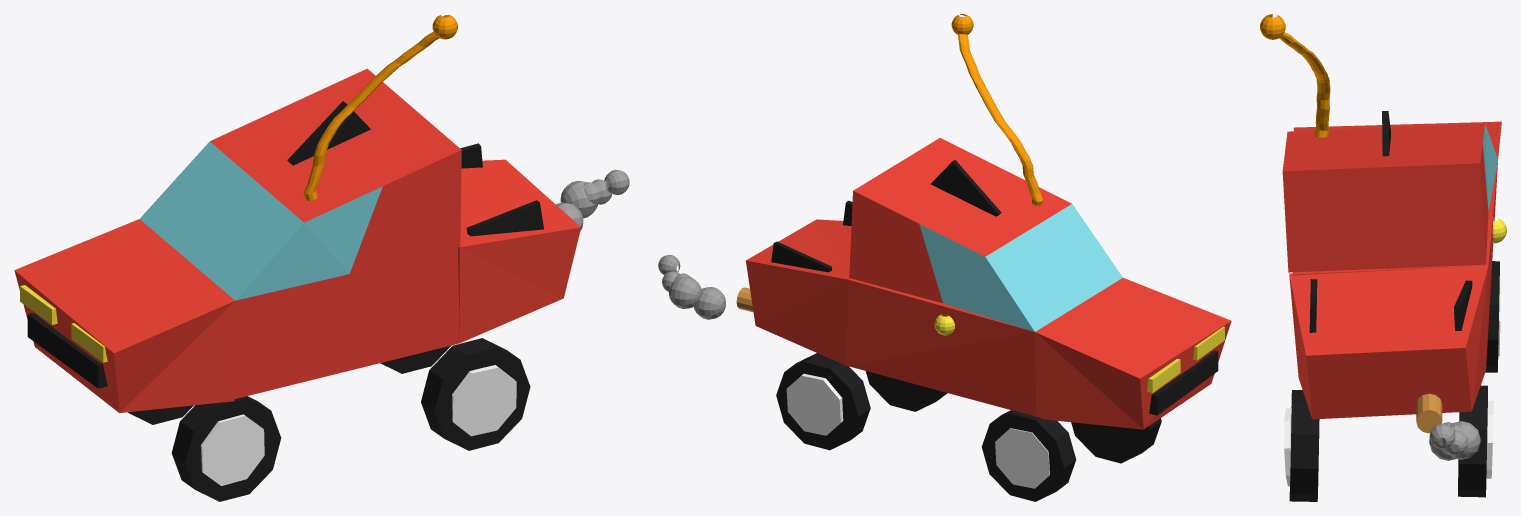
Rendered from robot2.glb.
3 views of the same model, side by side, from view 1: azimuth 30°, elevation 25°; view 2: azimuth 150°, elevation 25°; view 3: azimuth 270°, elevation 25° (orthographic). The views are drawn at different scales.
Visible parts, largest first — view 1: group1816747608, group223673627, group1737520711, group1923273632, group1309054072, group1839723920, group696540419, group1850184820, group820149238, group1028843289, group1958005578, group922025665 (+4 smaller); view 2: group1816747608, group223673627, group1737520711, group1923273632, group1979048861, group1878458894, group979763682, group1828241397, group1839723920, group820149238, group1309054072, group1028843289 (+4 smaller); view 3: group1816747608, group1923273632, group1309054072, group1979048861, group820149238, group1737520711, group1878458894, group223673627, group509621909, group2012521023, group1280761292, group754503193 (+7 smaller).
Part boxes in pixels (<box>): group1816747608: <box>140,68,461,300</box>; group223673627: <box>14,219,235,412</box>; group1737520711: <box>234,244,461,399</box>; group1923273632: <box>458,159,581,342</box>; group1309054072: <box>421,338,530,450</box>; group1839723920: <box>171,396,281,501</box>; group696540419: <box>452,365,516,436</box>; group1850184820: <box>200,414,264,485</box>; group820149238: <box>303,31,439,200</box>; group1028843289: <box>27,313,107,388</box>; group1958005578: <box>466,200,543,236</box>; group922025665: <box>287,101,370,165</box>; group1816747608: <box>849,138,1122,331</box>; group223673627: <box>1035,278,1231,429</box>; group1737520711: <box>845,278,1036,416</box>; group1923273632: <box>745,219,851,365</box>; group1979048861: <box>776,353,870,450</box>; group1878458894: <box>981,410,1076,501</box>; group979763682: <box>786,373,843,435</box>; group1828241397: <box>995,428,1049,488</box>; group1839723920: <box>1071,418,1161,463</box>; group820149238: <box>957,34,1042,205</box>; group1309054072: <box>865,371,947,411</box>; group1028843289: <box>1149,350,1218,415</box>; group1816747608: <box>1282,123,1497,272</box>; group1923273632: <box>1289,265,1488,419</box>; group1309054072: <box>1289,390,1319,501</box>; group1979048861: <box>1458,385,1487,497</box>; group820149238: <box>1279,32,1330,137</box>; group1737520711: <box>1292,161,1497,367</box>; group1878458894: <box>1485,261,1499,372</box>; group223673627: <box>1293,121,1501,158</box>; group509621909: <box>1416,393,1442,433</box>; group2012521023: <box>1442,421,1480,459</box>; group1280761292: <box>1454,280,1472,330</box>; group754503193: <box>1260,14,1285,39</box>.
Size of the model in its own units: 0.5298 by 0.3871 by 0.1897.
